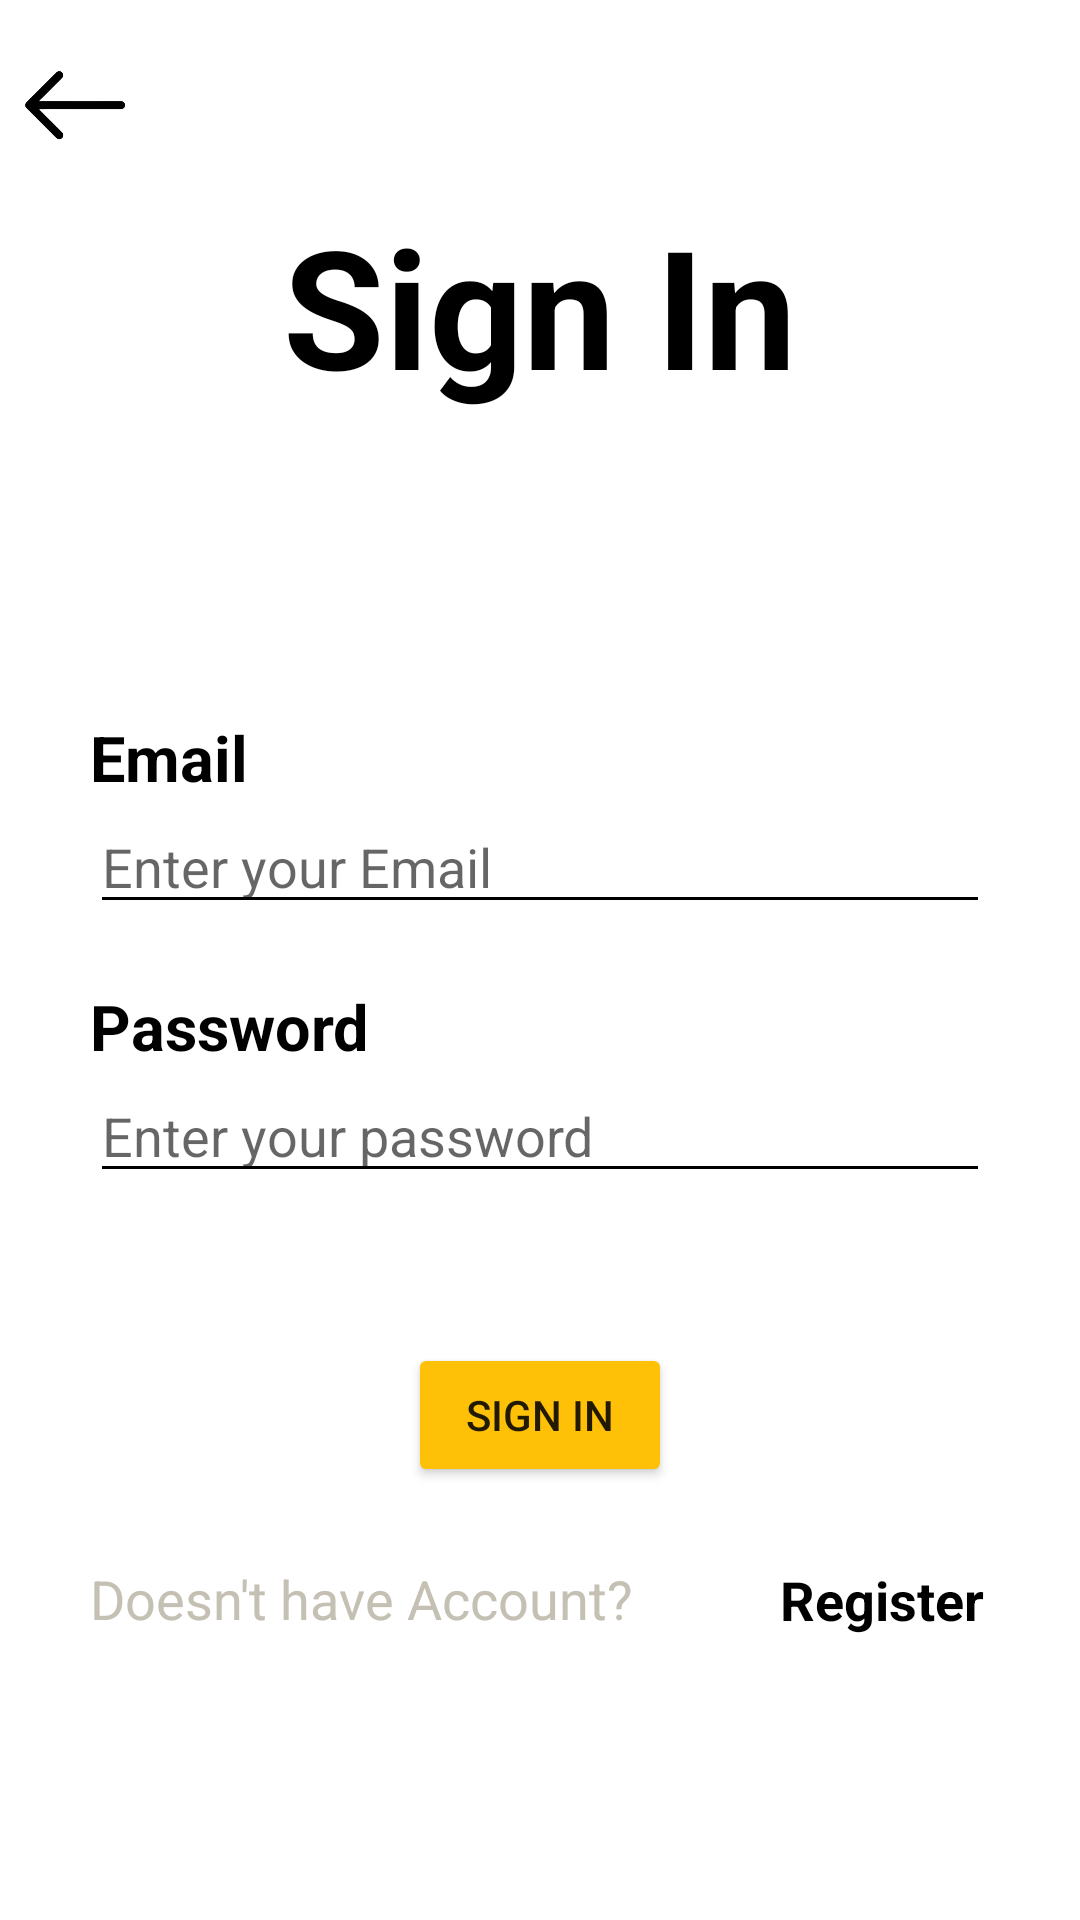

Icon bounding boxes for this 1080px×1920px phone screenshot, format (x1, y1, x2, y2):
back: (25, 71, 125, 139)
